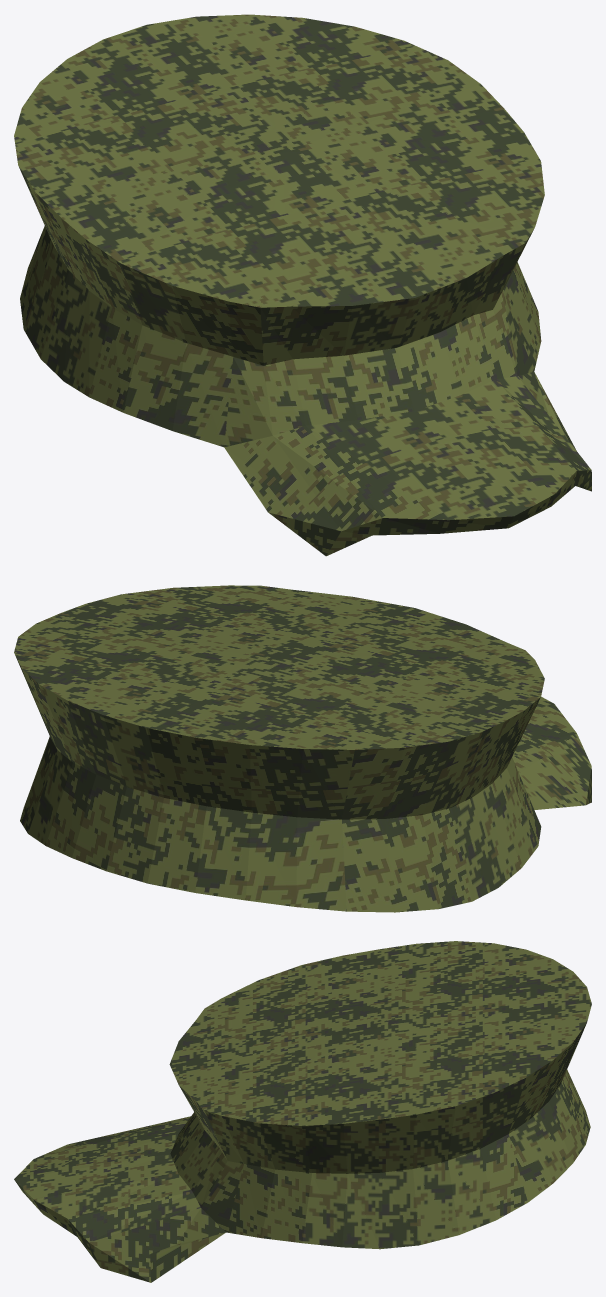
Rendered from Kep.fbx.
3 views of the same model, one above another, from view 1: azimuth 30°, elevation 25°; view 2: azimuth 150°, elevation 25°; view 3: azimuth 270°, elevation 25° (orthographic). The views are drawn at different scales.
Visible parts, largest first — view 1: Kep; view 2: Kep; view 3: Kep.
Part boxes in pixels (x1,y1,x2,y2): Kep: (14, 14, 591, 556); Kep: (14, 585, 591, 912); Kep: (14, 941, 591, 1282).
Size of the model in its own units: 457 by 271 by 652.
1 material, 1 textured.
